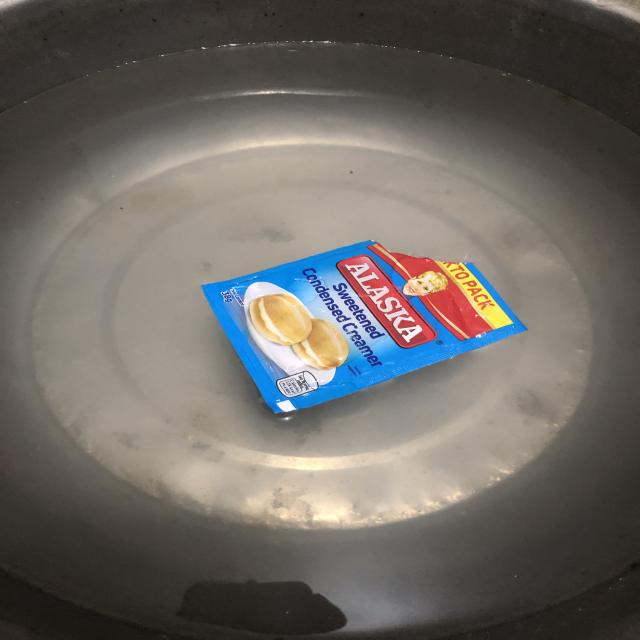Plastic Wrapper: (202, 241, 526, 412)
